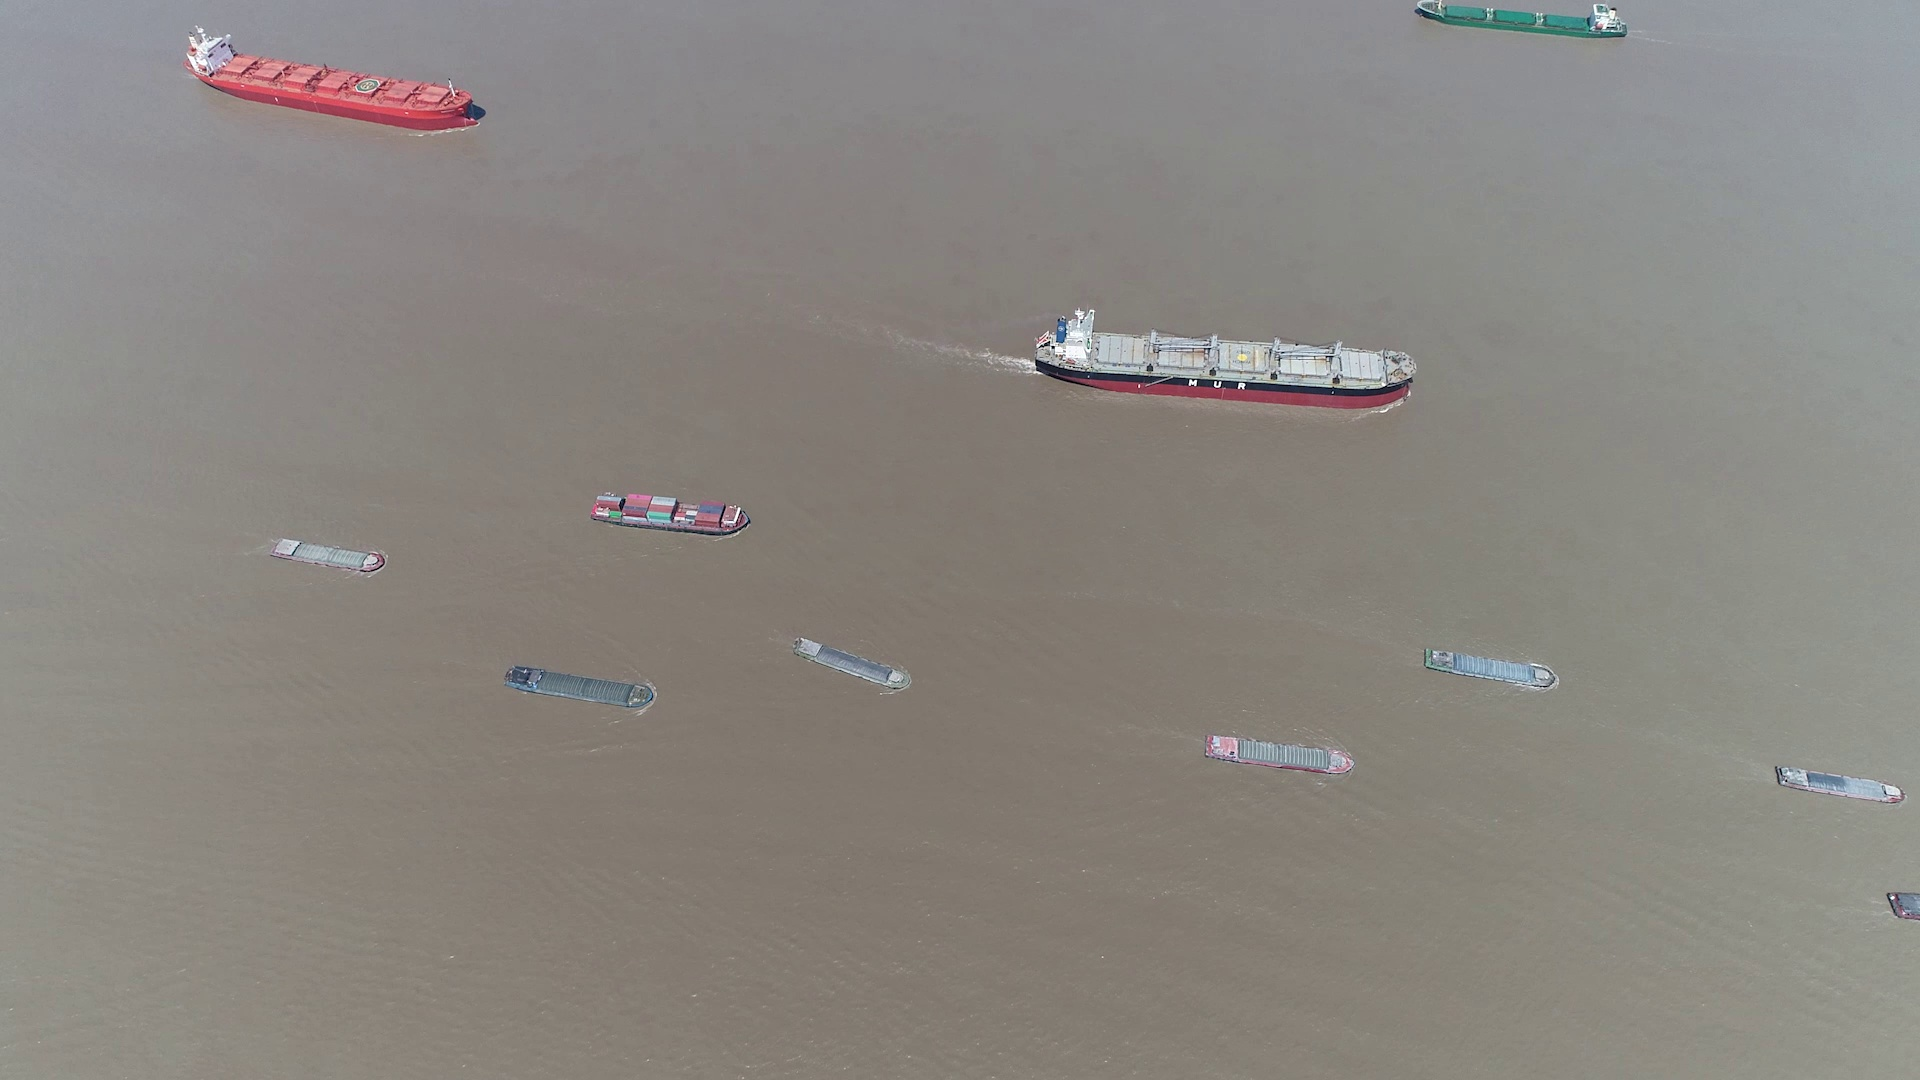ship: (1035, 309, 1415, 407), (187, 25, 483, 131), (1414, 1, 1629, 40), (589, 492, 752, 535), (795, 638, 913, 694), (506, 666, 657, 708), (1204, 733, 1353, 775), (1425, 647, 1557, 688), (1776, 766, 1903, 804), (269, 538, 388, 574), (1887, 893, 1919, 924)
